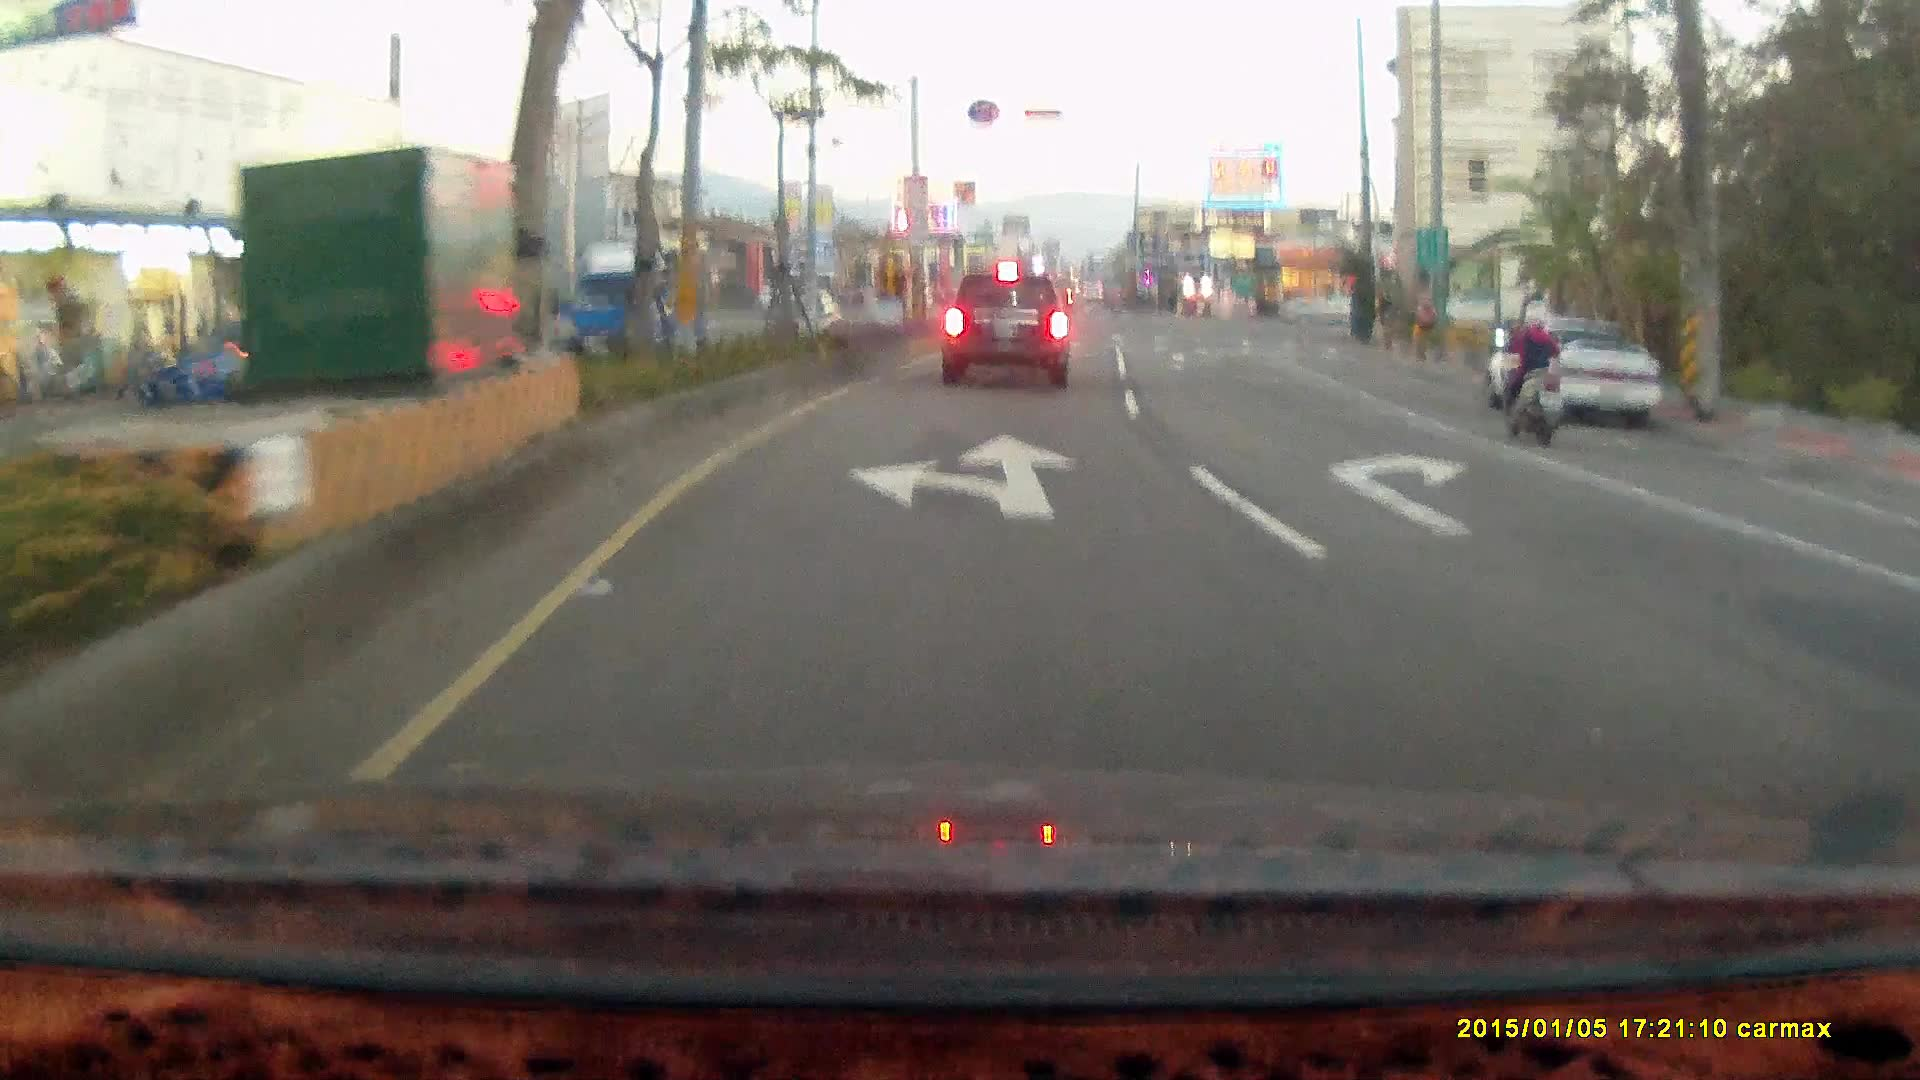rider: (1488, 301, 1567, 447)
vehicle: (1484, 318, 1662, 431), (548, 242, 710, 368), (1492, 325, 1670, 429), (940, 270, 1070, 391), (136, 334, 288, 407), (1896, 493, 1920, 836), (1883, 528, 1920, 690), (1425, 287, 1524, 333), (1276, 294, 1357, 323)
